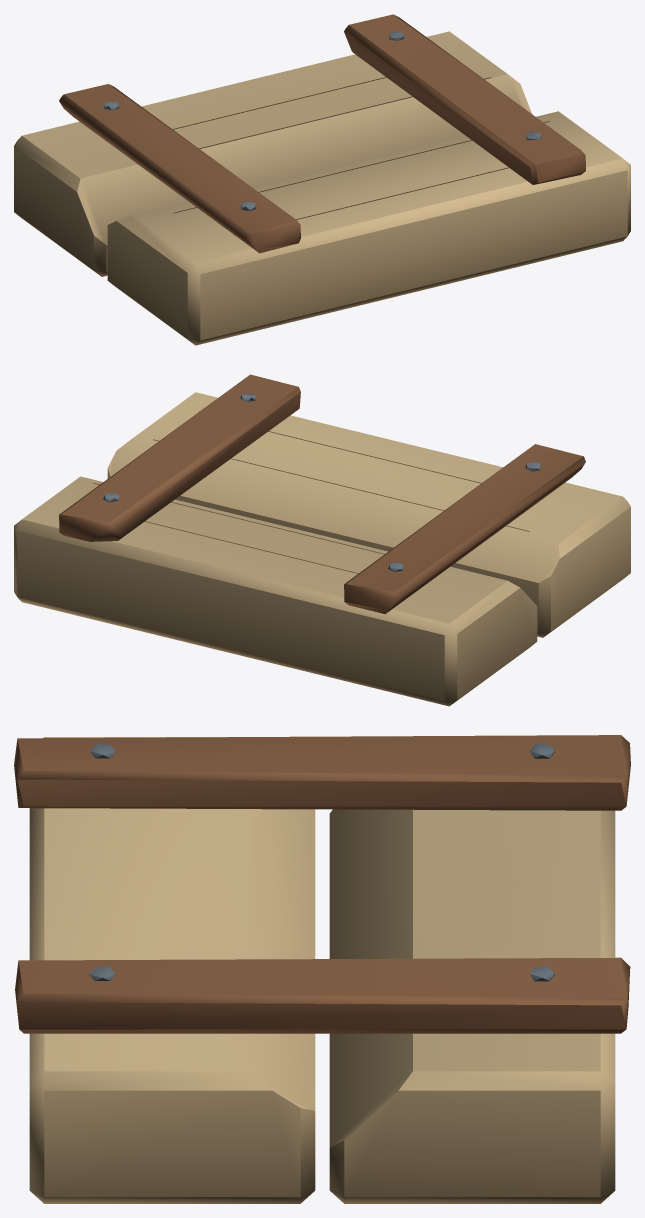
File: ruins-pc-wood-low.glb
3 renders of one model, top to bottom at view 1: azimuth 30°, elevation 25°; view 2: azimuth 150°, elevation 25°; view 3: azimuth 270°, elevation 25°, orthographic. The views are drawn at different scales.
Parts seen in each view (by area): view 1: 0_ruins_pc_wood; view 2: 0_ruins_pc_wood; view 3: 0_ruins_pc_wood.
Boxes of the visible parts, left/top/right/bottom form: 0_ruins_pc_wood: left=14, top=14, right=630, bottom=345; 0_ruins_pc_wood: left=14, top=374, right=630, bottom=706; 0_ruins_pc_wood: left=14, top=735, right=630, bottom=1203.
Bounding box in the file's own units: 0.56 × 0.1364 × 0.4214.
